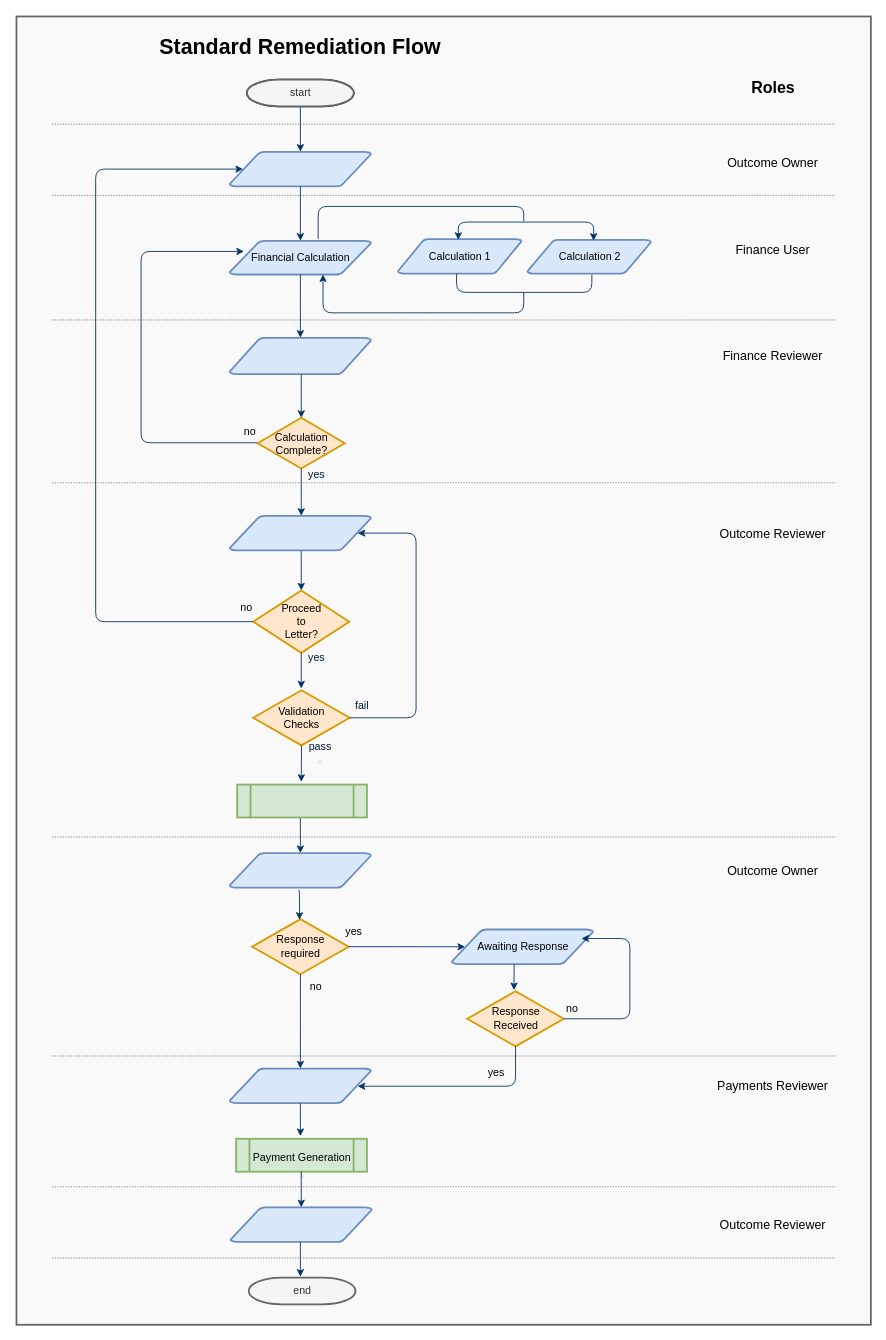
This 886x1340 diagram has some shape labels left out. The centre of each missing label's shape, as x and y in pixels:
"Financial Review" goes at (300,355).
"Letter Dispatch" goes at (300,870).
"Letter Generation" goes at (301,800).
"Outcome Complete" goes at (300,1224).
"Outcome Load" goes at (300,168).
"Outcome Review" goes at (300,532).
"Payment Review" goes at (300,1085).
